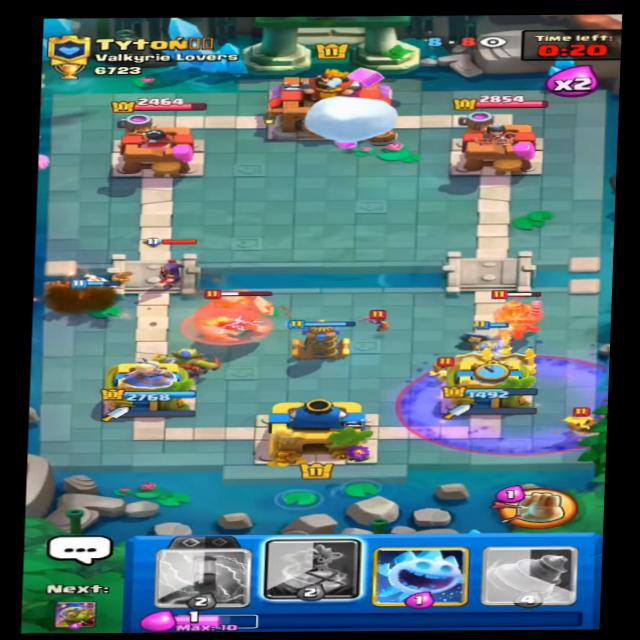bats: (353, 309, 389, 333)
evo-wizard: (129, 239, 209, 288)
giant: (187, 289, 297, 341)
graveyard: (397, 353, 620, 455)
prince: (486, 280, 555, 338)
skeleton: (557, 400, 594, 431)
